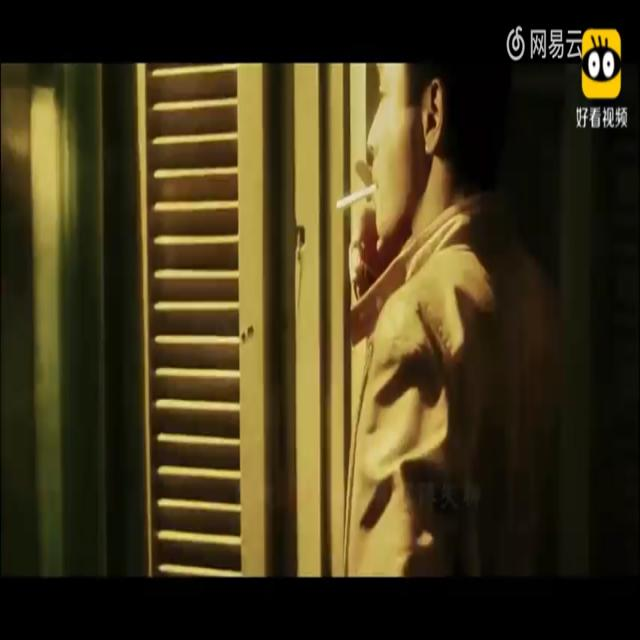cigarette: (336, 186, 377, 208)
